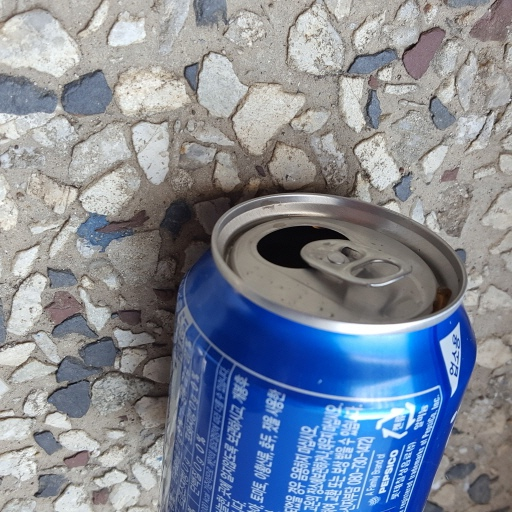Metal_0: (163, 190, 480, 512)
